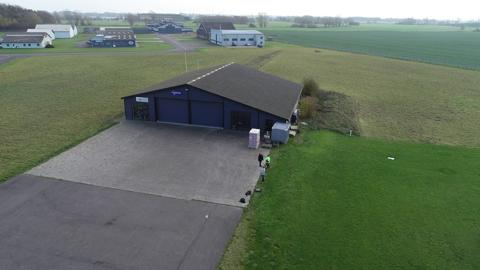RockwoolPallet: (248, 128, 261, 150)
